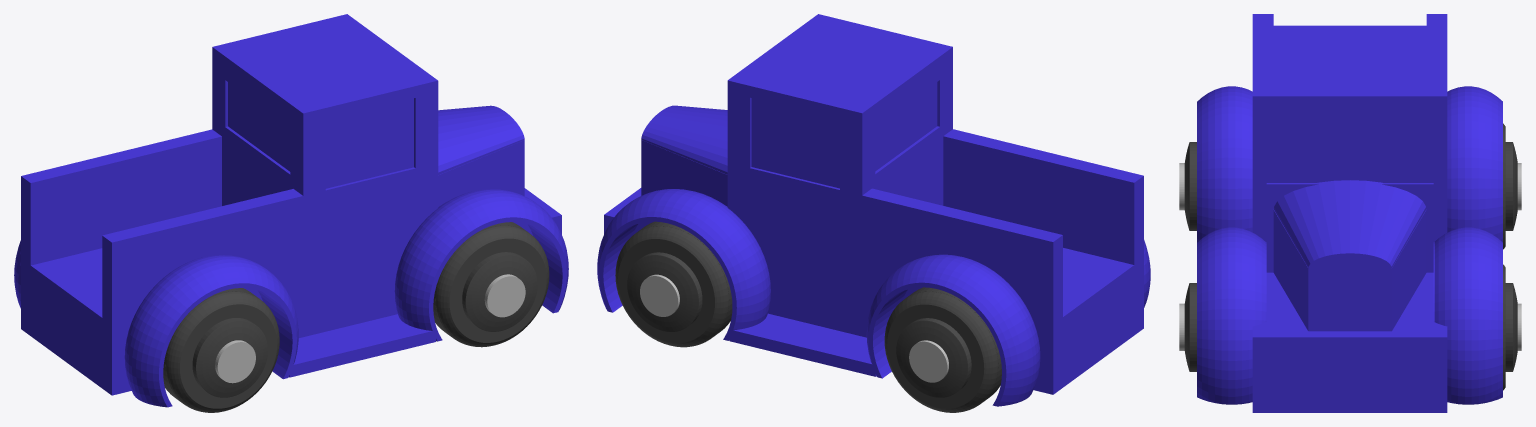
File: truck.fbx
3 renders of one model, left to right at view 1: azimuth 30°, elevation 25°; view 2: azimuth 150°, elevation 25°; view 3: azimuth 270°, elevation 25°, orthographic. The views are drawn at different scales.
Parts seen in each view (by area): view 1: Trucks_and_Cars_8; view 2: Trucks_and_Cars_8; view 3: Trucks_and_Cars_8.
Boxes of the visible parts, bbox=[...] form: Trucks_and_Cars_8: bbox=[14, 14, 568, 412]; Trucks_and_Cars_8: bbox=[597, 14, 1150, 412]; Trucks_and_Cars_8: bbox=[1179, 14, 1521, 412].
Bounding box in the file's own units: 4000 × 2194 × 2463.
